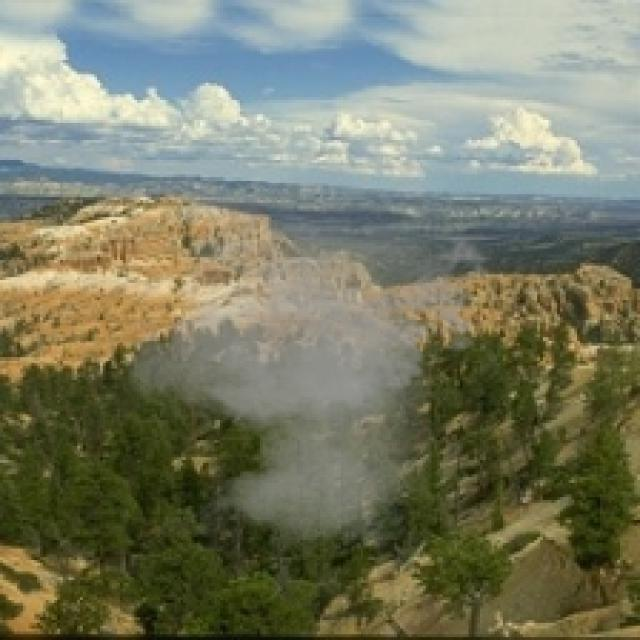smoke: (111, 188, 500, 548)
